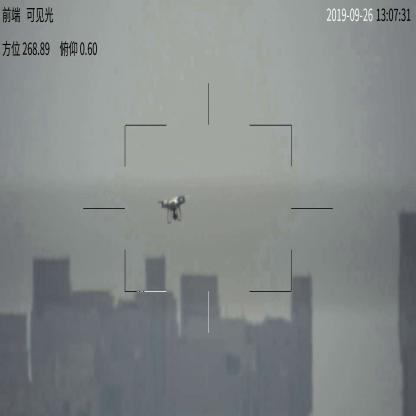uav: (156, 195, 189, 223)
